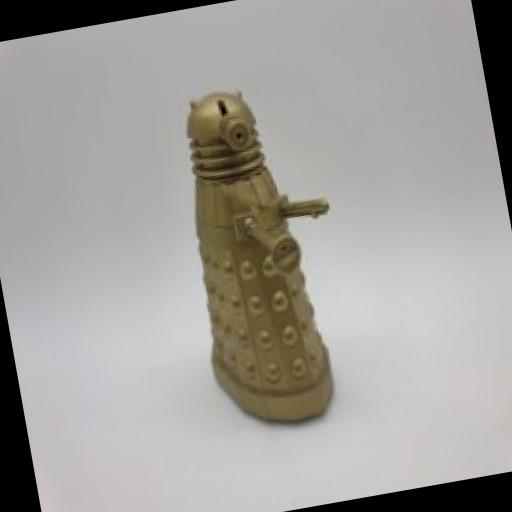dalek: (141, 68, 372, 449)
